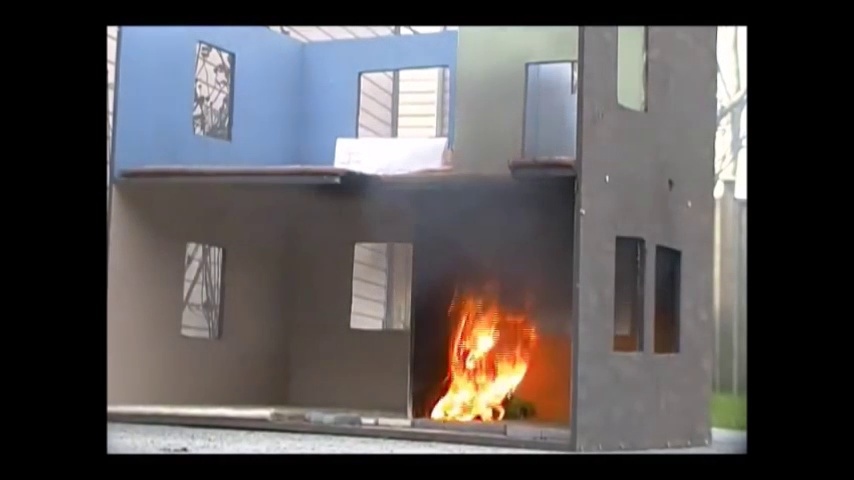fire: (432, 297, 529, 418)
